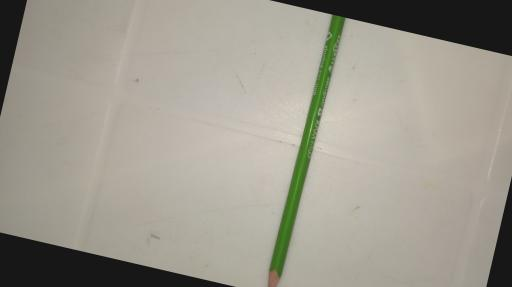Pencil: (264, 13, 343, 287)
